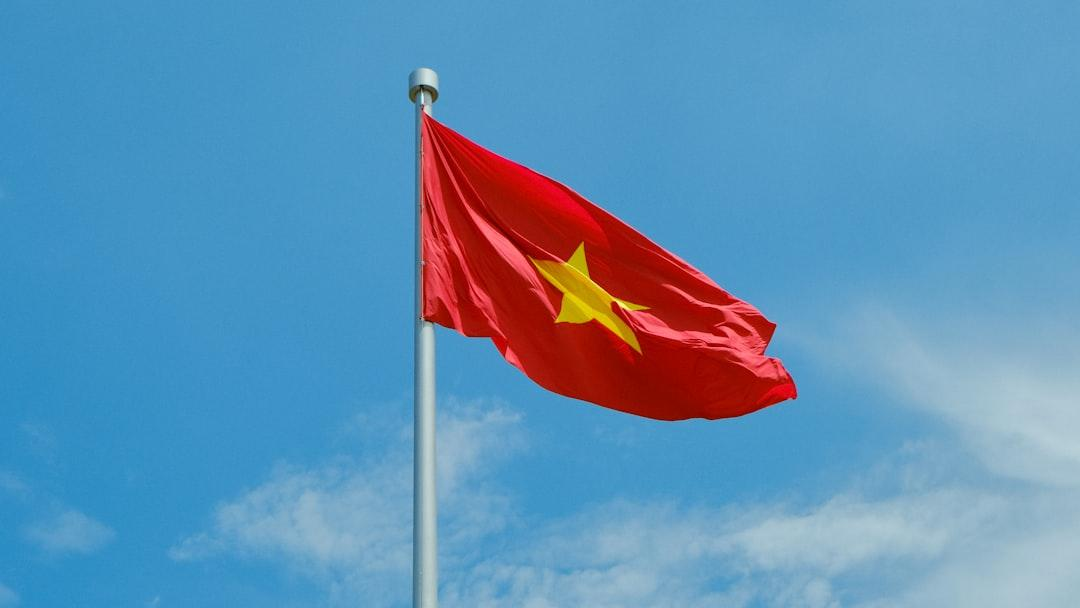Vietnam: (420, 111, 800, 423)
